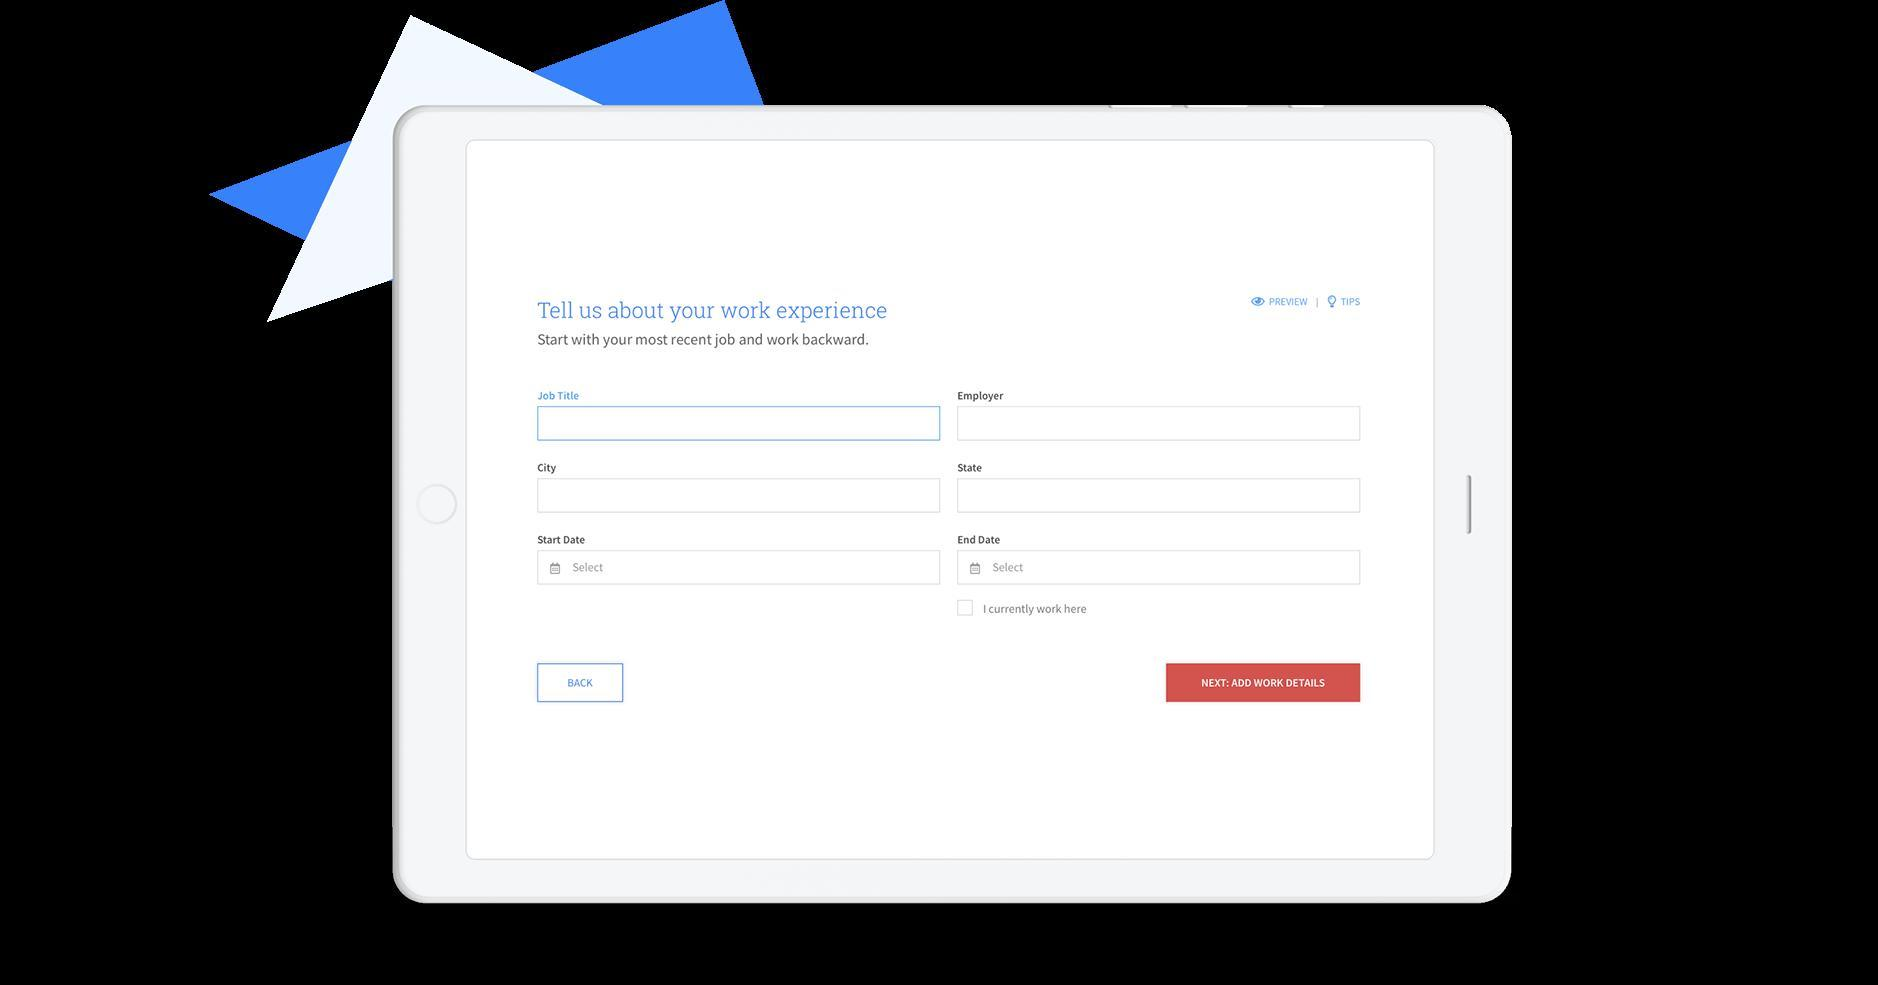button: (1166, 663, 1363, 704), (538, 665, 625, 703)
checkbox: (958, 601, 974, 617)
icon: (1327, 294, 1340, 312), (1251, 297, 1267, 311)
input: (956, 552, 1363, 586), (537, 552, 941, 586), (539, 481, 941, 515), (959, 479, 1361, 514), (958, 407, 1361, 441), (539, 407, 941, 441)
label: (535, 299, 888, 328), (982, 602, 1091, 619), (956, 532, 1004, 548), (956, 389, 1006, 404), (538, 533, 587, 547), (1269, 296, 1314, 311), (537, 389, 581, 402), (959, 461, 984, 477), (537, 463, 561, 476), (1341, 296, 1363, 309)
